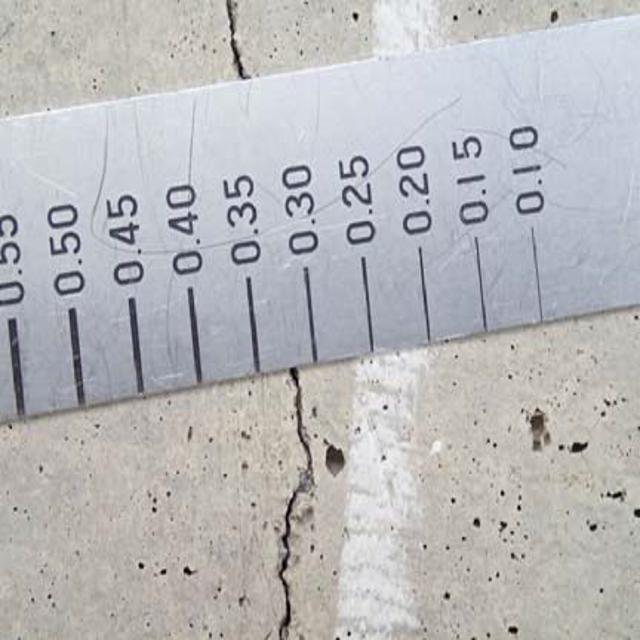crack: (274, 371, 323, 640), (219, 6, 267, 80)
